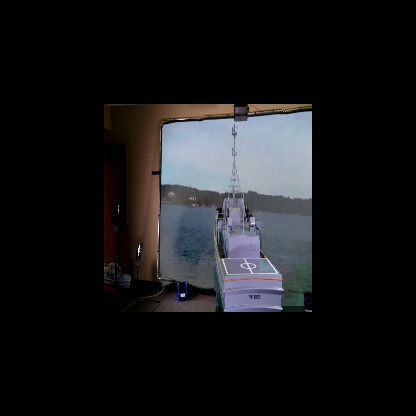YP689: (213, 130, 285, 312)
